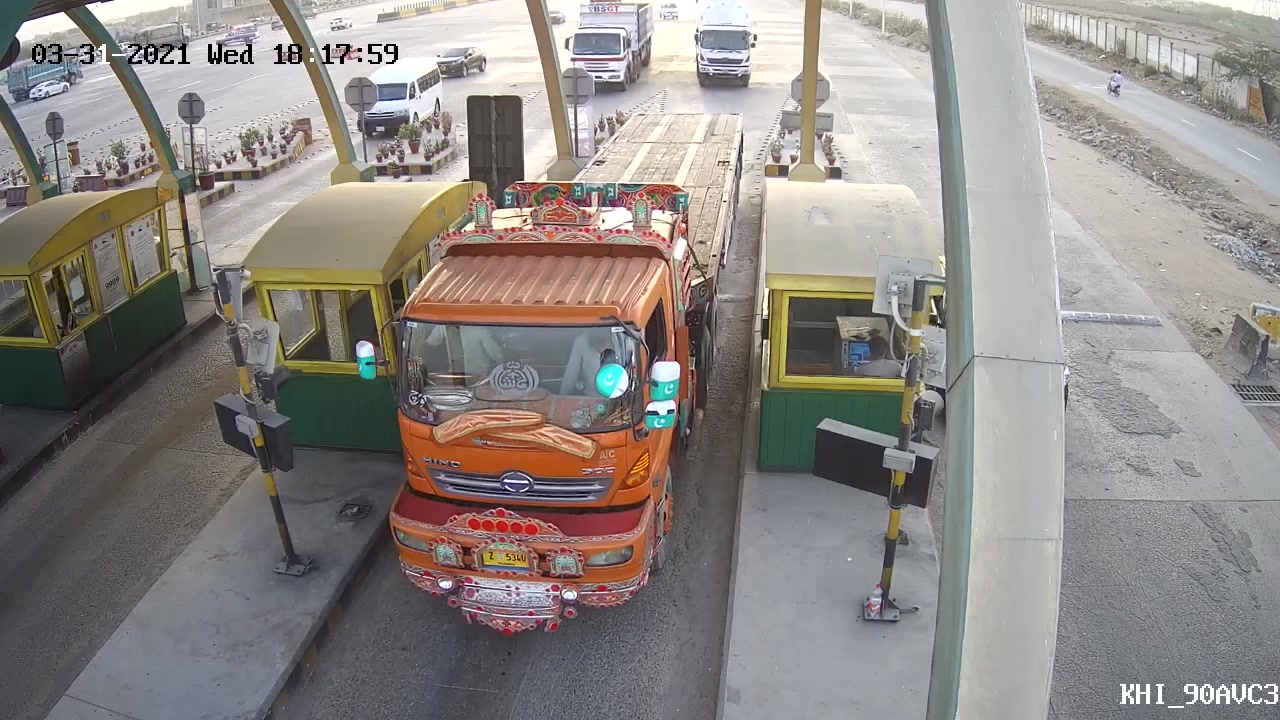F6: (383, 100, 760, 627)
